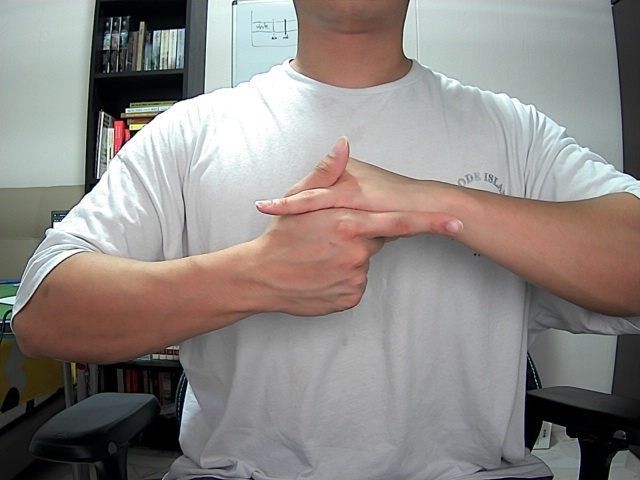Hare: (223, 117, 472, 327)
